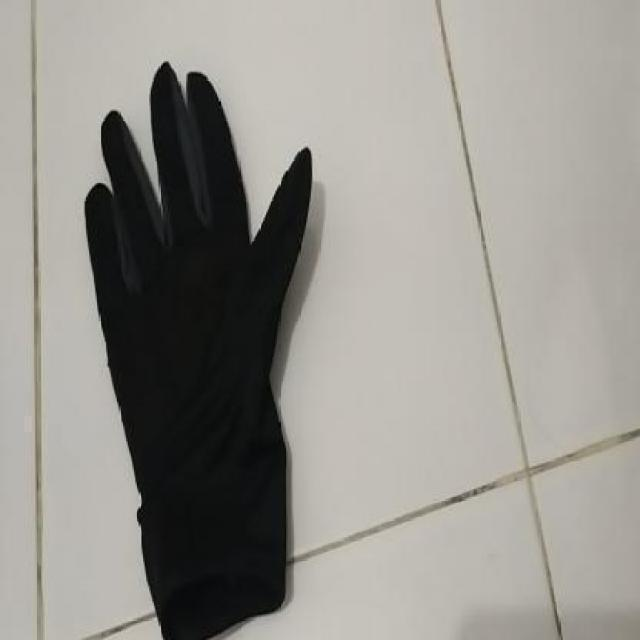gloved_hand: (91, 74, 318, 633)
